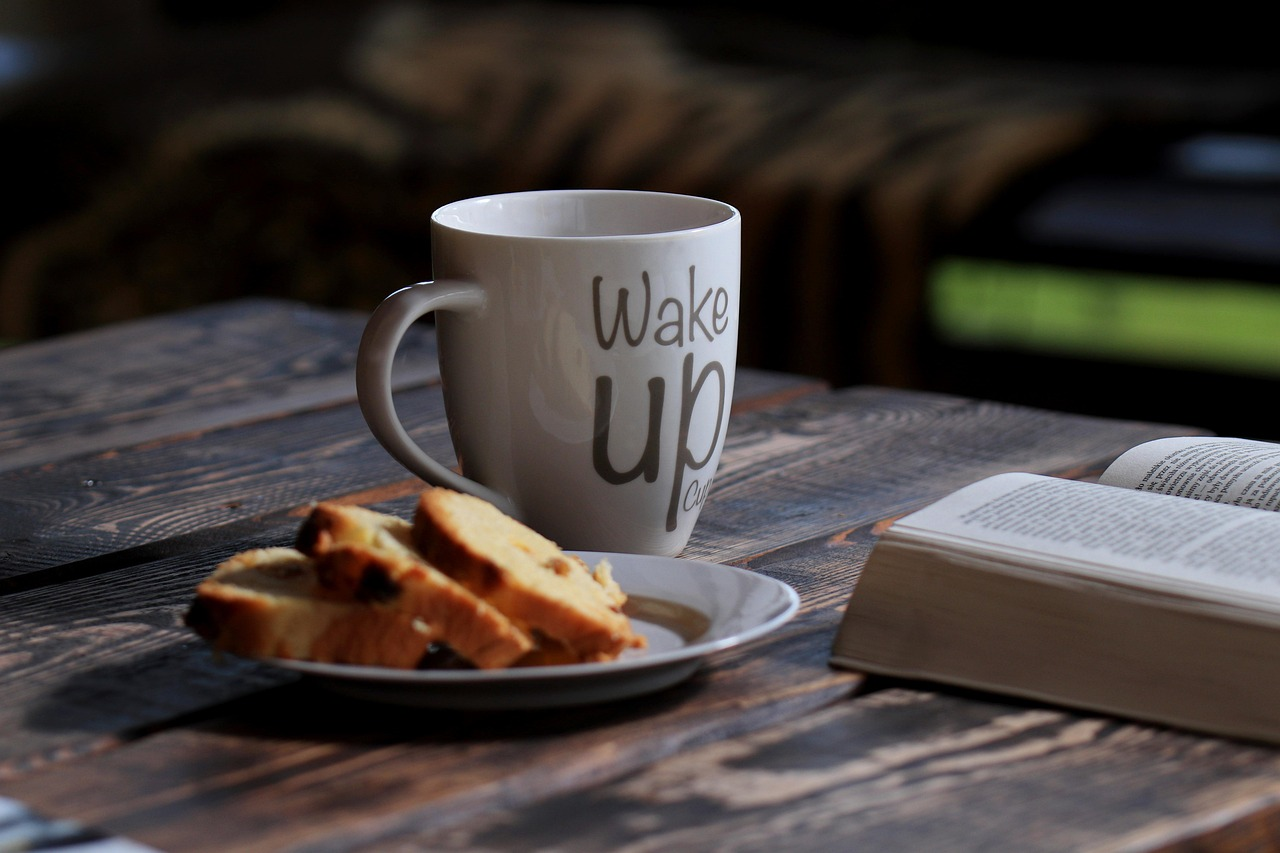mug: (341, 164, 771, 589)
